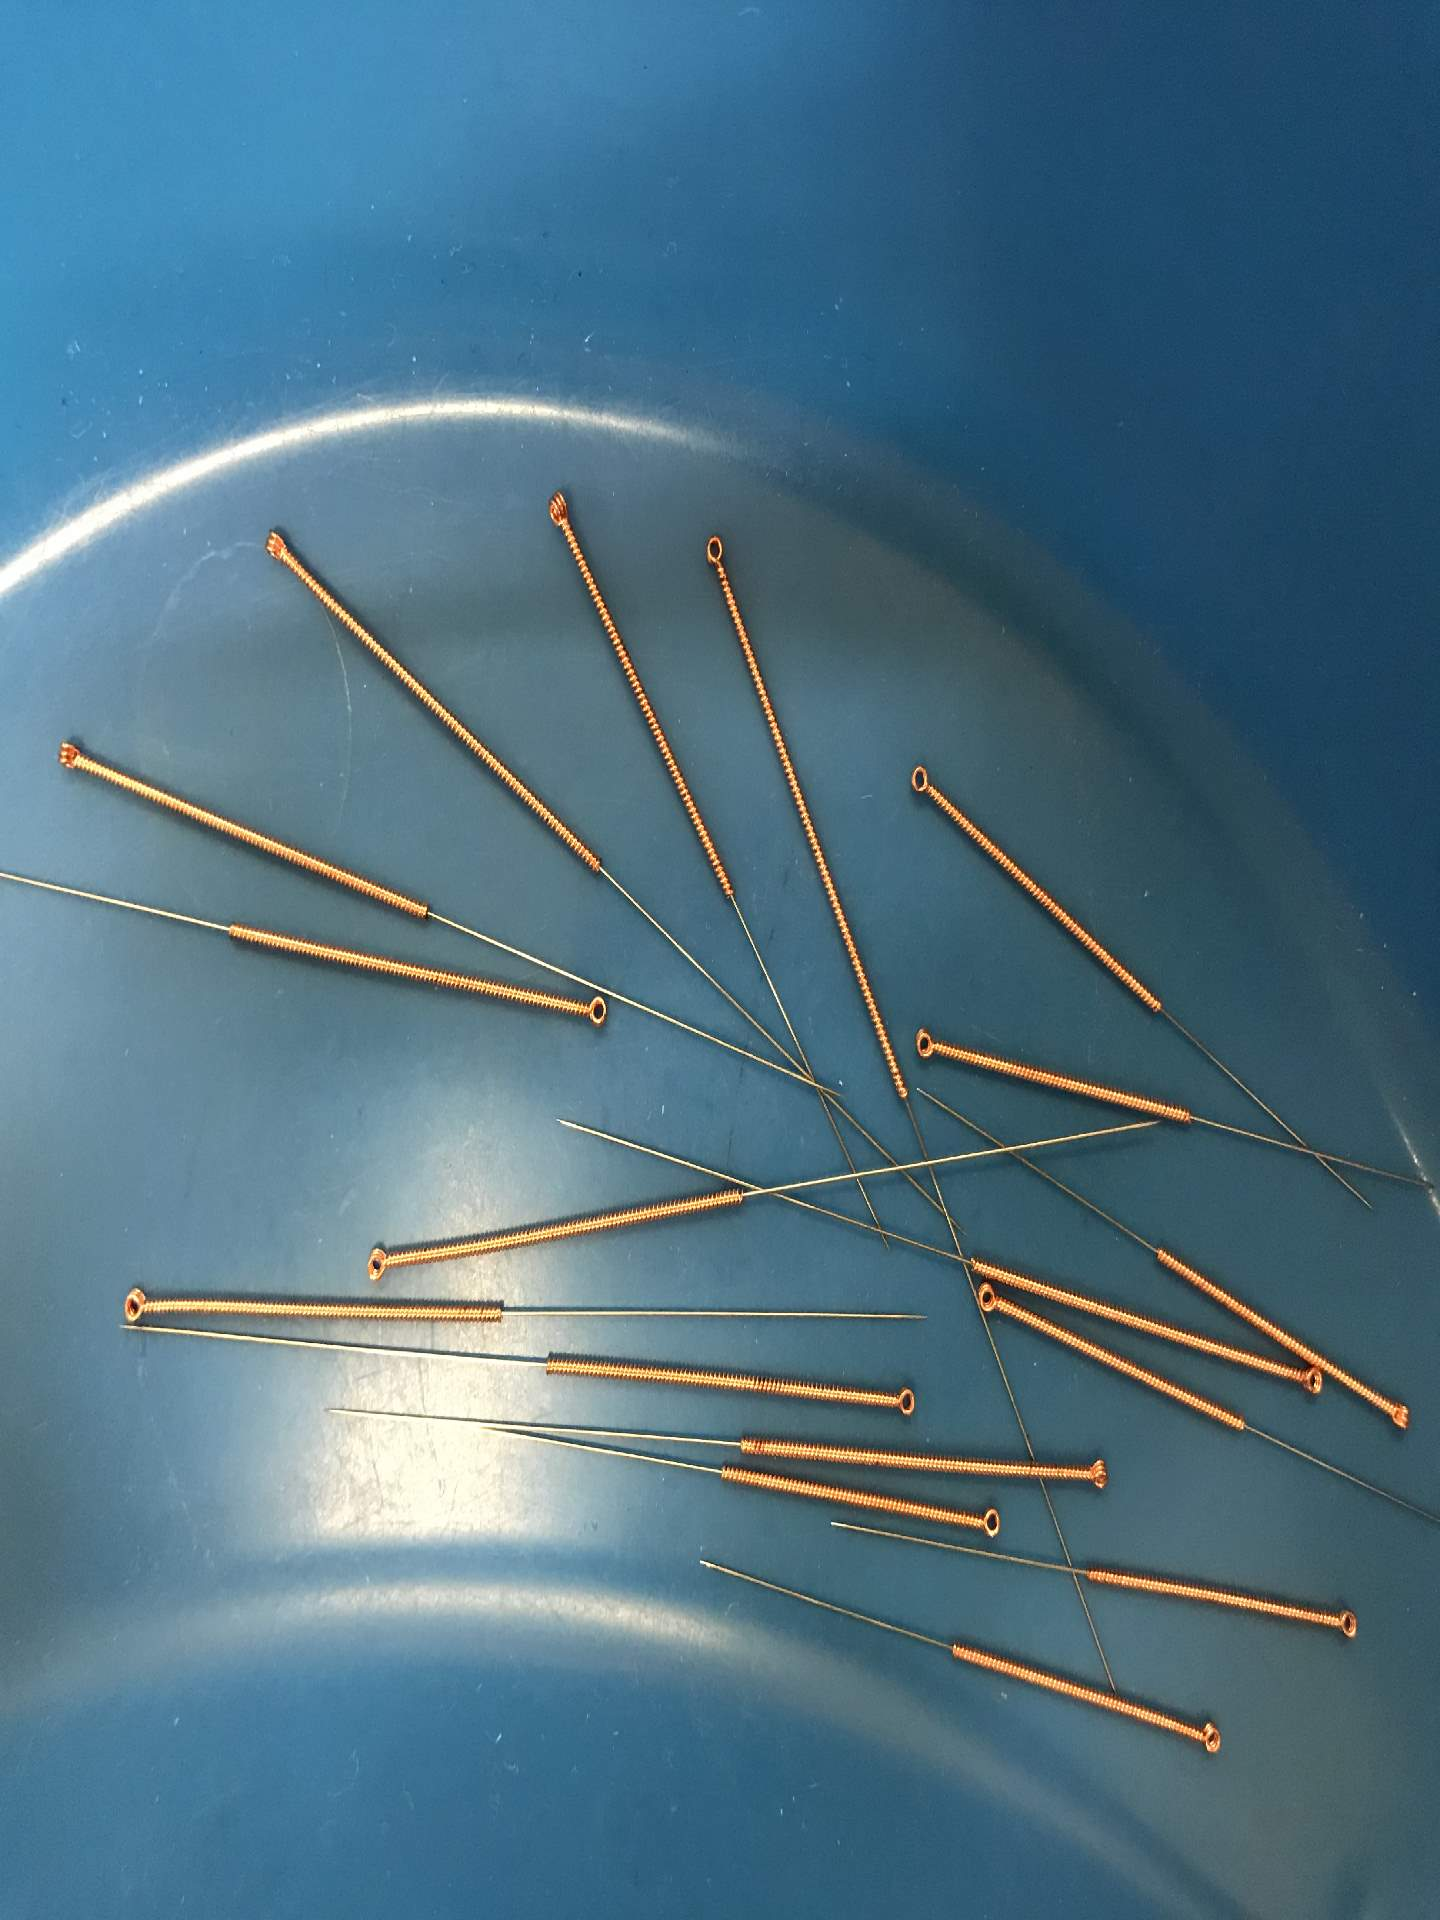needle: (868, 1367, 927, 1429), (1178, 1705, 1236, 1769), (1314, 1593, 1373, 1654), (534, 478, 584, 546), (39, 729, 97, 786), (1066, 1445, 1124, 1501), (107, 1273, 163, 1327), (349, 1237, 407, 1290), (248, 517, 303, 571), (895, 753, 945, 810), (691, 525, 738, 584), (902, 1017, 953, 1070), (961, 1495, 1012, 1547), (1376, 1391, 1422, 1442), (569, 990, 616, 1036), (971, 1276, 1007, 1327), (1286, 1361, 1327, 1401)
